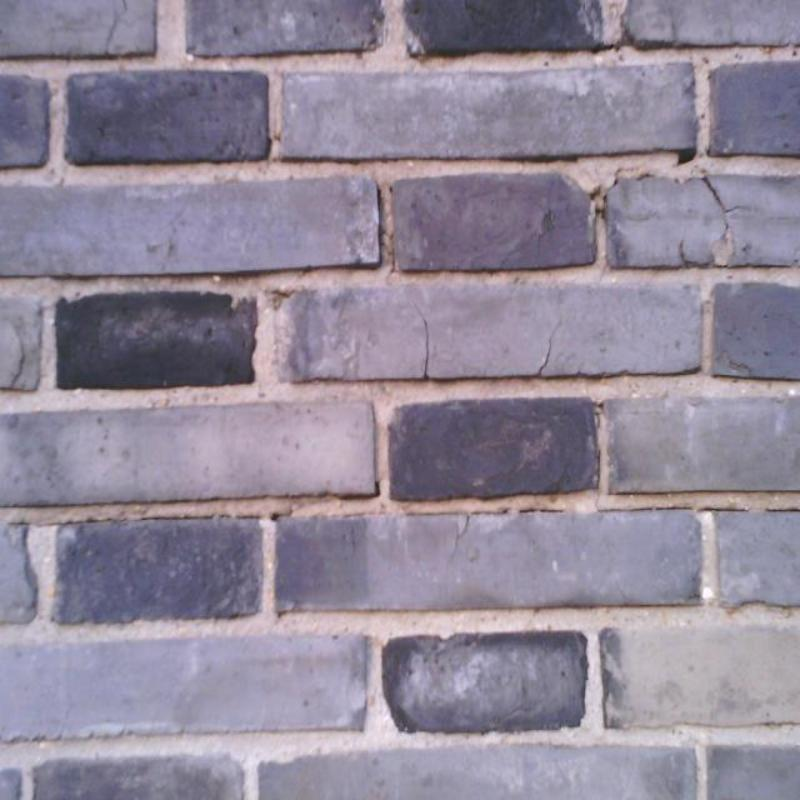pothole: (702, 178, 749, 215), (535, 320, 561, 376), (104, 0, 129, 56), (8, 338, 26, 388), (417, 315, 431, 378), (452, 515, 471, 555)
